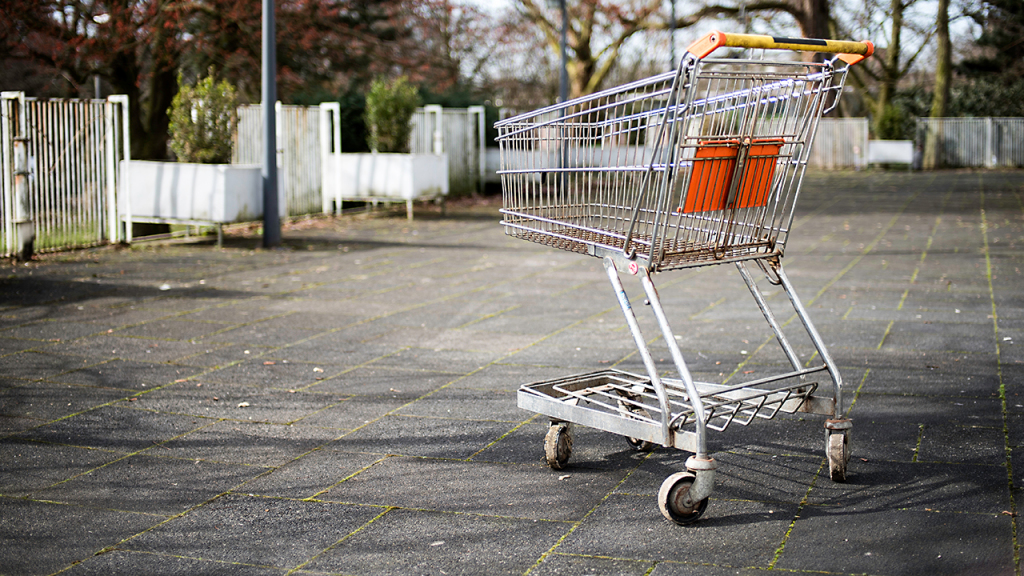shopping_cart: (490, 31, 880, 526)
